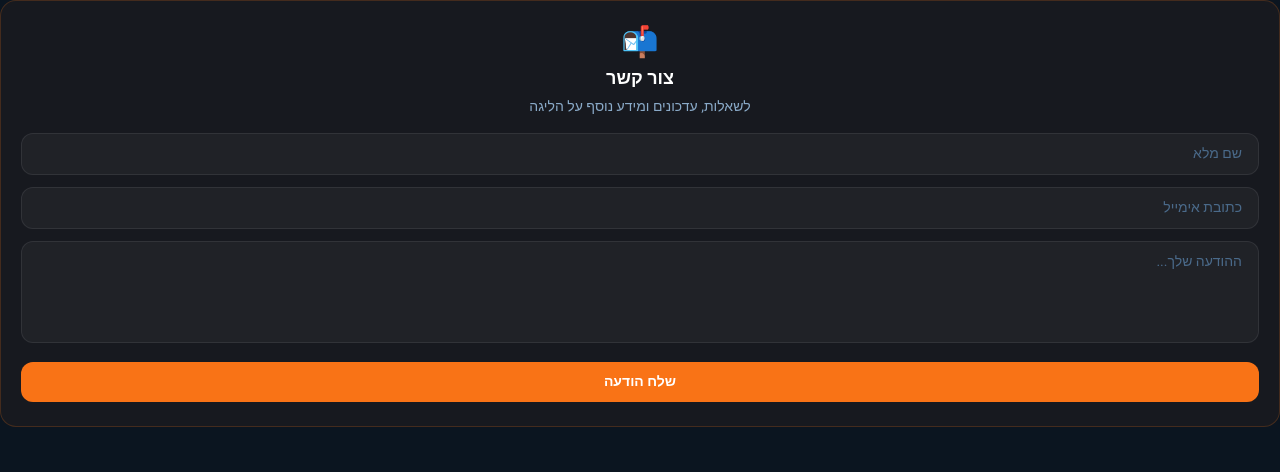
Test case: ContactForm › shows a connection error when the request throws
In the field with placeholder "שם מלא": (640, 154) top-left (21, 133), bottom-right (1259, 175), type "Dana"
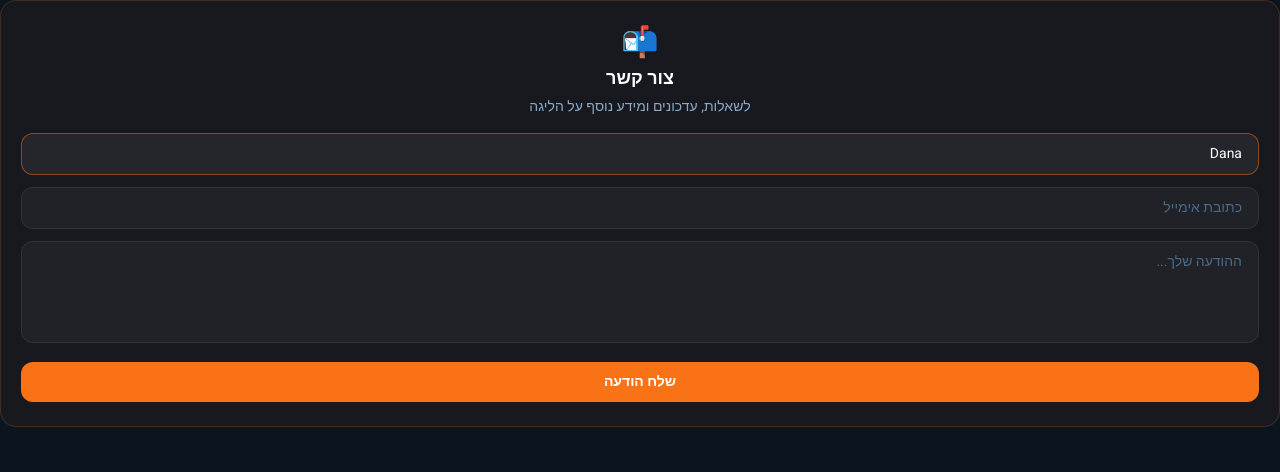
In the field with placeholder "כתובת אימייל": (640, 208) top-left (21, 187), bottom-right (1259, 229), type "dana@x.com"
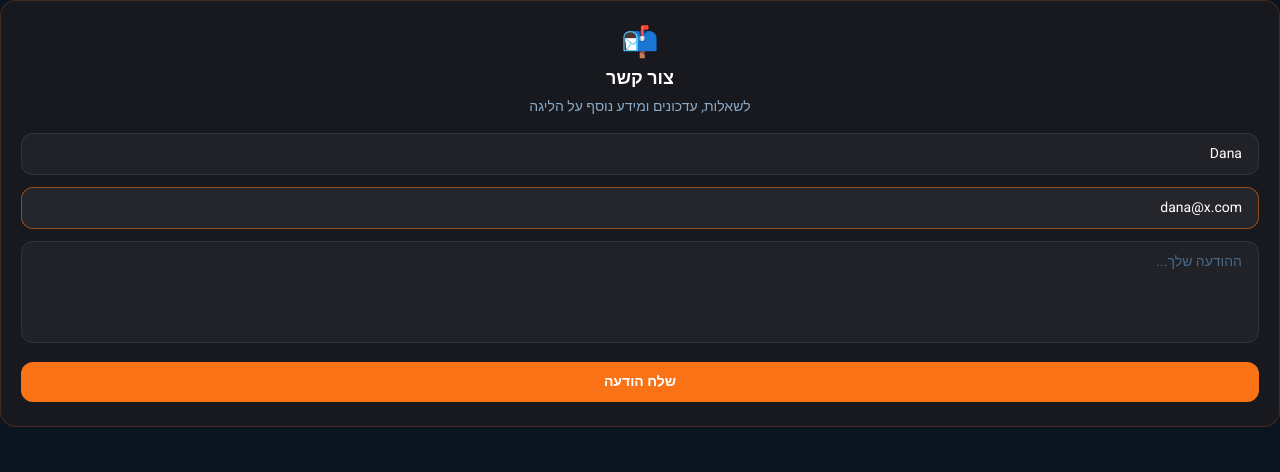
In the text box with placeholder "ההודעה שלך...": (640, 292) top-left (21, 241), bottom-right (1259, 343), type "Hello there"
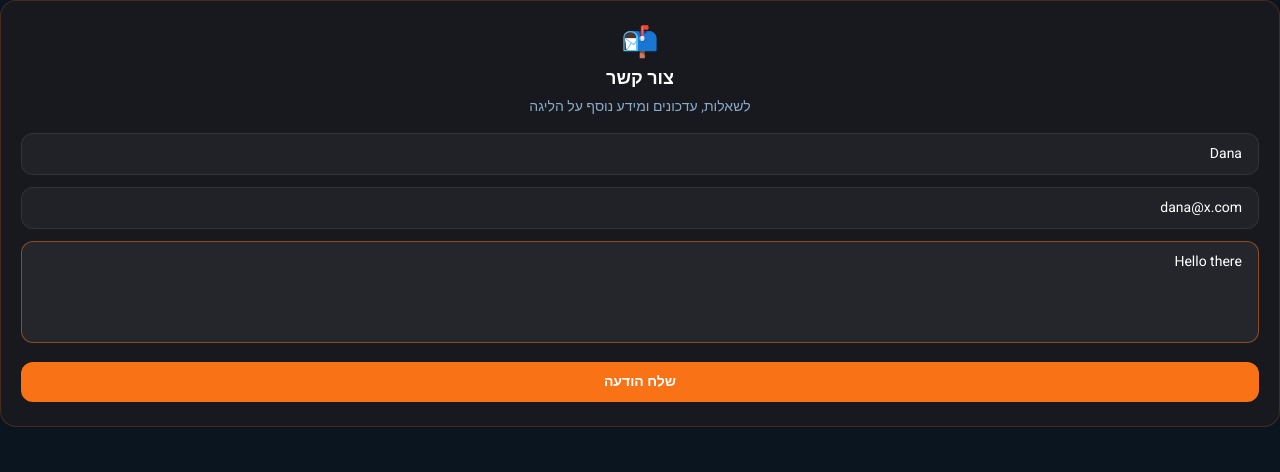
Click the button "שלח הודעה": (640, 382) top-left (21, 362), bottom-right (1259, 402)
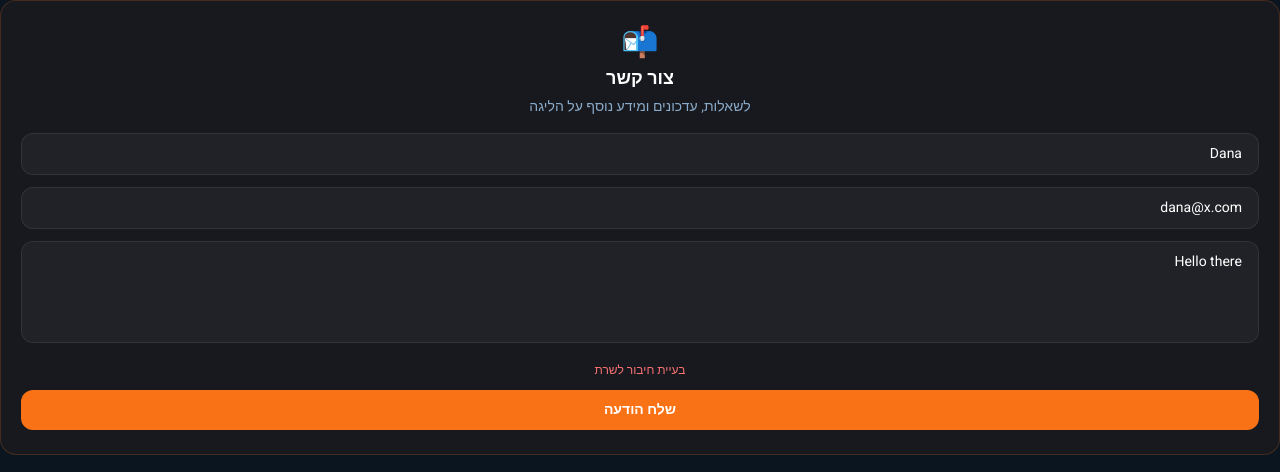
Check: the text "בעיית חיבור לשרת" is shown, box top-left (594, 361), bottom-right (686, 379)
